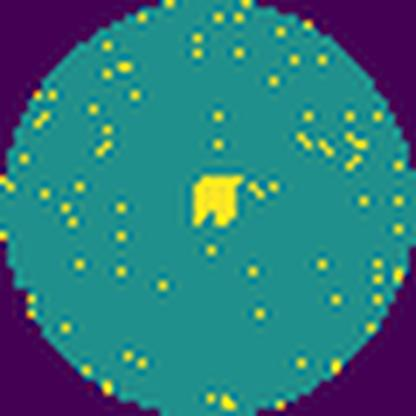Center: (192, 174, 247, 231)
